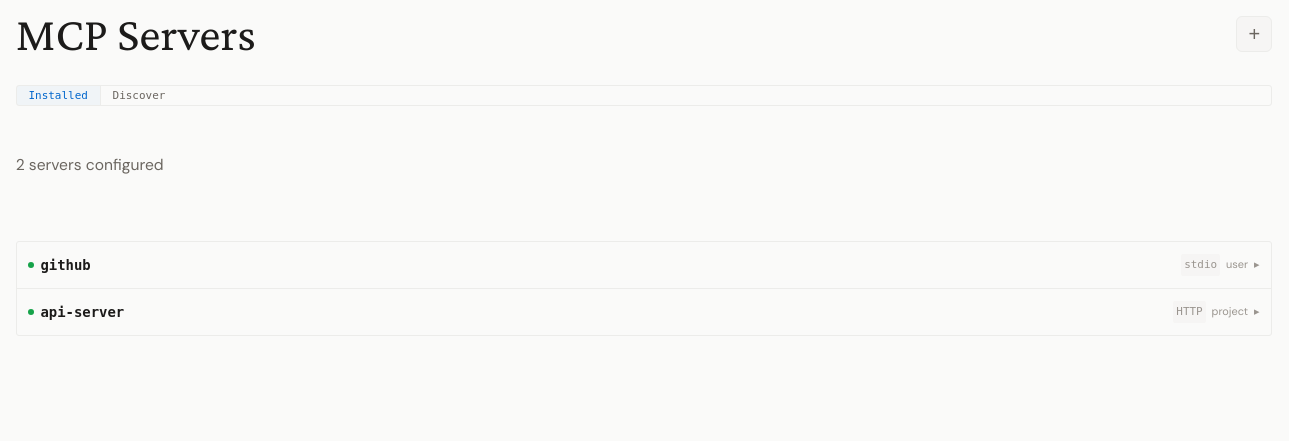
Test: MCPPanel › shows headers when HTTP server expanded
expect the text "api-server" is shown: met, box 40,304 -> 124,320
Step 1. Click the button "api-server HTTP project ▸" → x=82, y=312, box 28,301 -> 1260,323
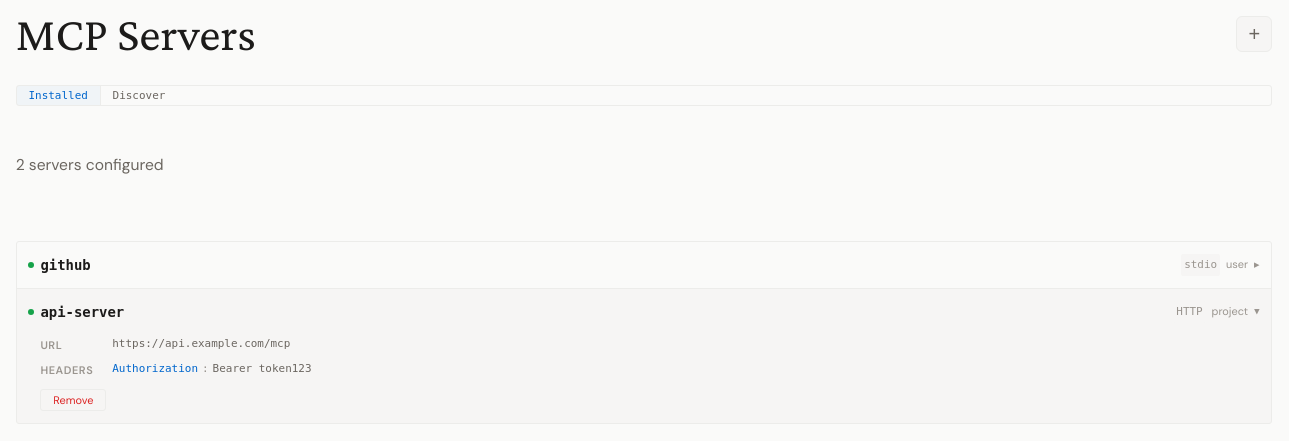
expect the text "Authorization" is shown: met, box 112,360 -> 198,378
expect the text "Bearer token123" is shown: met, box 213,360 -> 312,378
